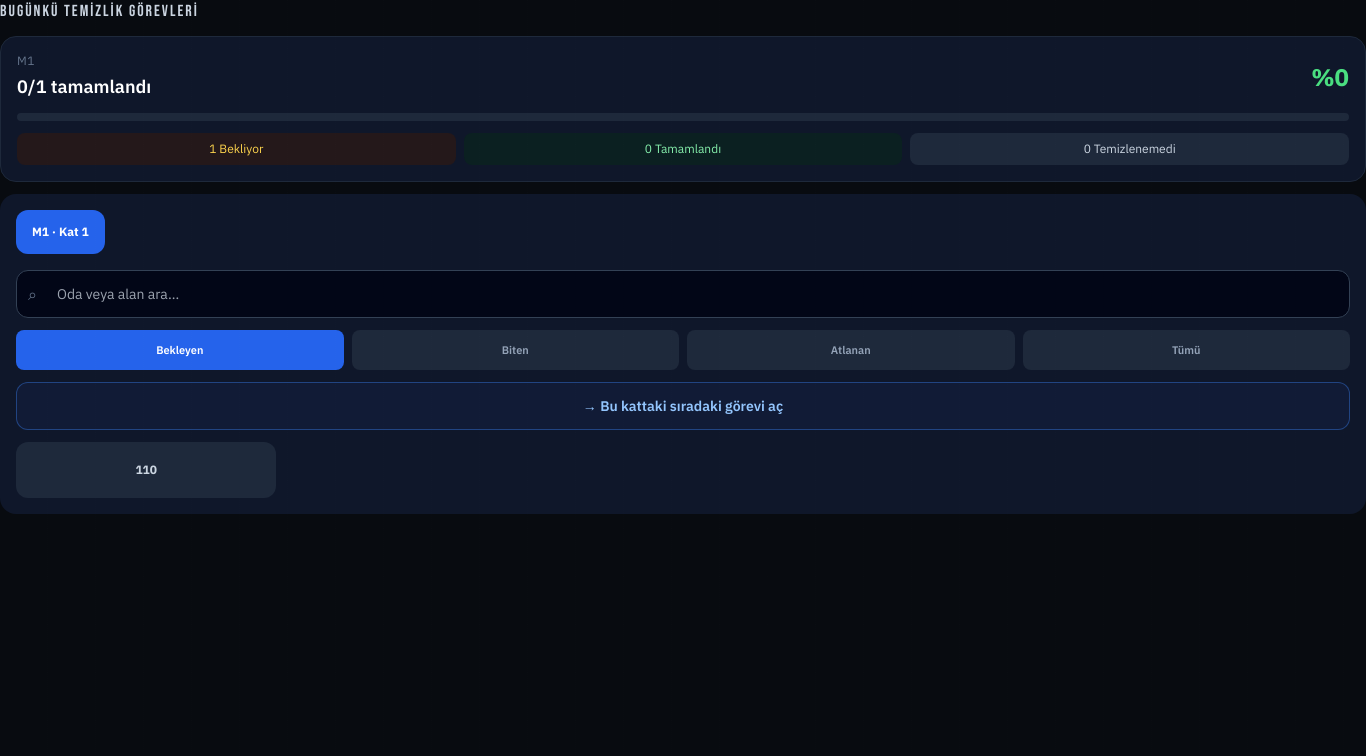
Test: AVS sekme parçaları smoke › TasksTab fotoğraf olmadan tamamlama butonunu kapalı tutar
Click the button "110". click: click(146, 470)
box: left=16, top=442, right=276, bottom=498
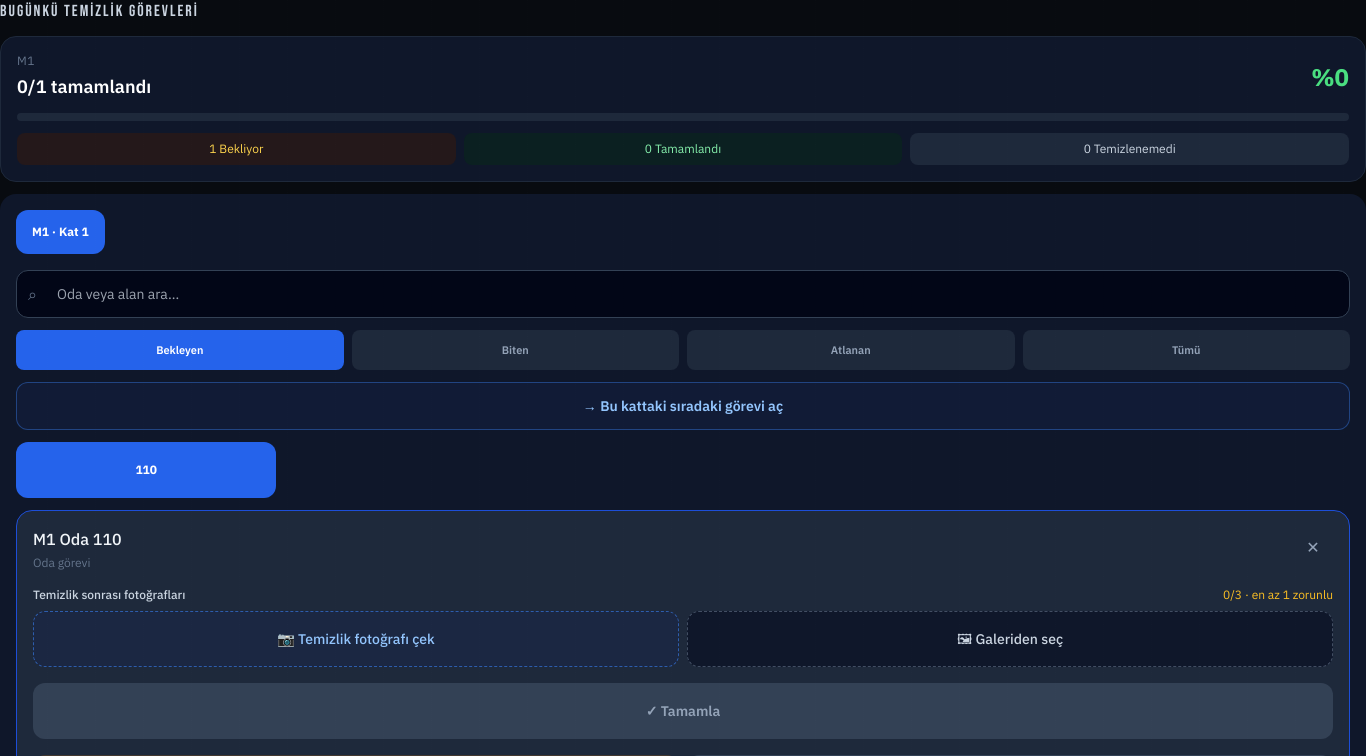
Expected: the button "✓ Tamamla" is disabled, left=33, top=683, right=1333, bottom=739
Expected: the text "0/3 · en az 1 zorunlu" is shown, left=1223, top=587, right=1333, bottom=603
